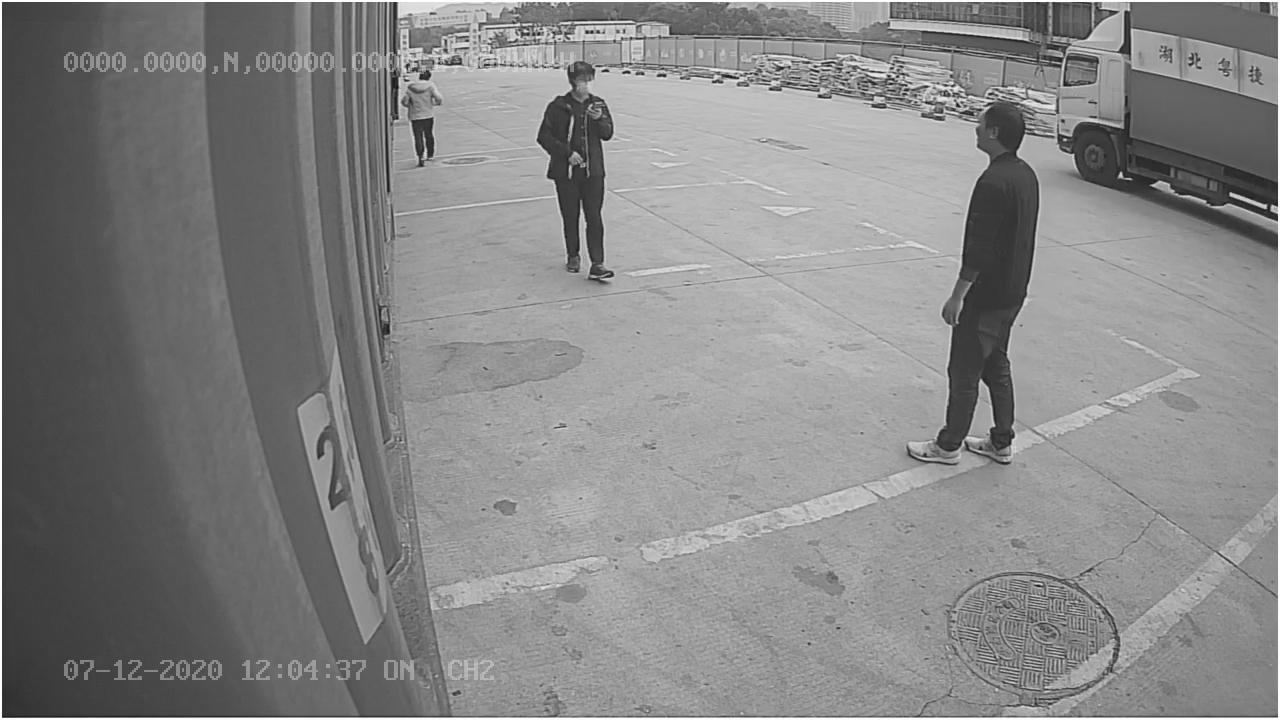person: (907, 100, 1041, 473), (534, 60, 613, 282)
